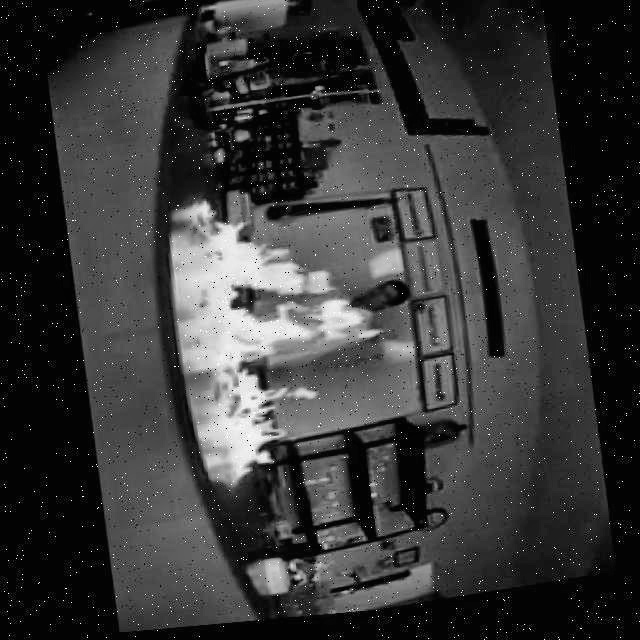Fire: (185, 179, 376, 493)
